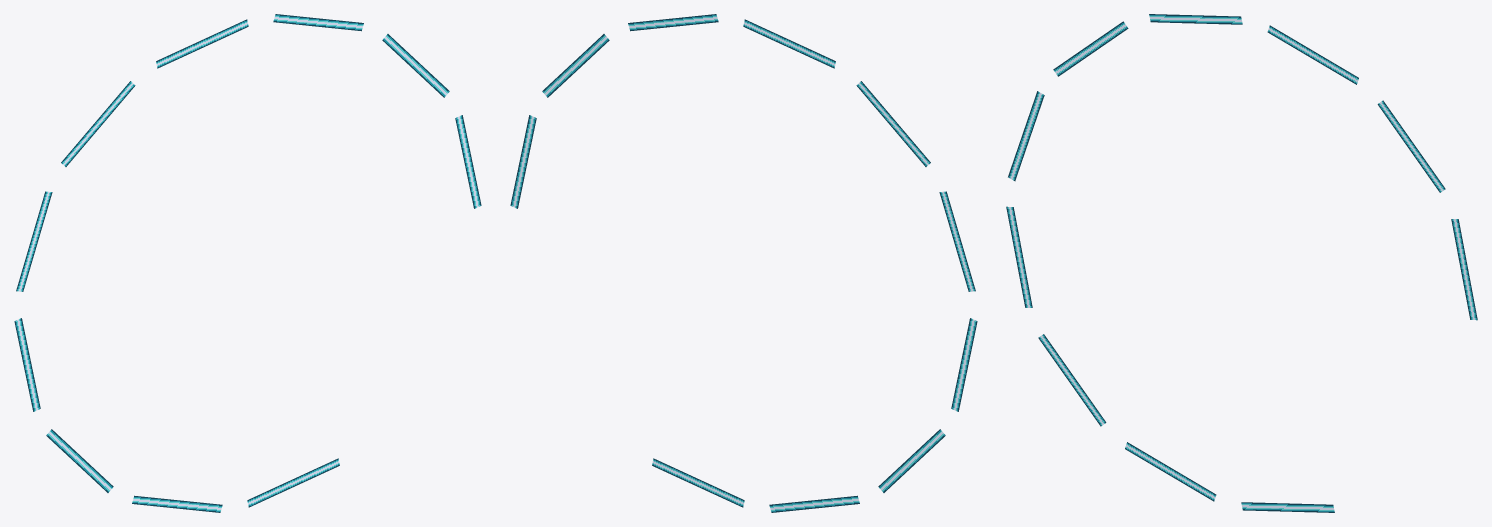
Rendered from cysky.halocard.glb.
3 renders of one model, left to right at view 1: azimuth 30°, elevation 25°; view 2: azimuth 150°, elevation 25°; view 3: azimuth 330°, elevation 25°, orthographic.
Parts seen in each view (by area): view 1: kit_card_projection; view 2: kit_card_projection; view 3: kit_card_projection.
Part boxes in pixels (left/top/right/bottom): kit_card_projection: left=14, top=14, right=481, bottom=512; kit_card_projection: left=510, top=14, right=977, bottom=512; kit_card_projection: left=1006, top=14, right=1477, bottom=512.
Bounding box in the file's own units: 6.1 × 6.1 × 0.
1 material, 1 textured.
